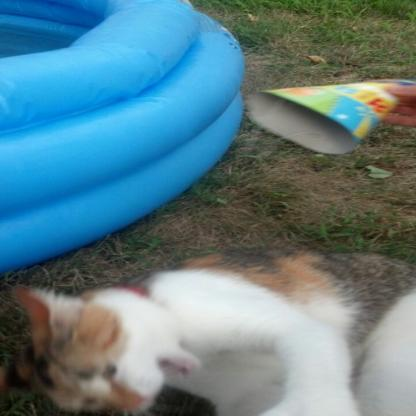Target: (7, 242, 416, 416)
